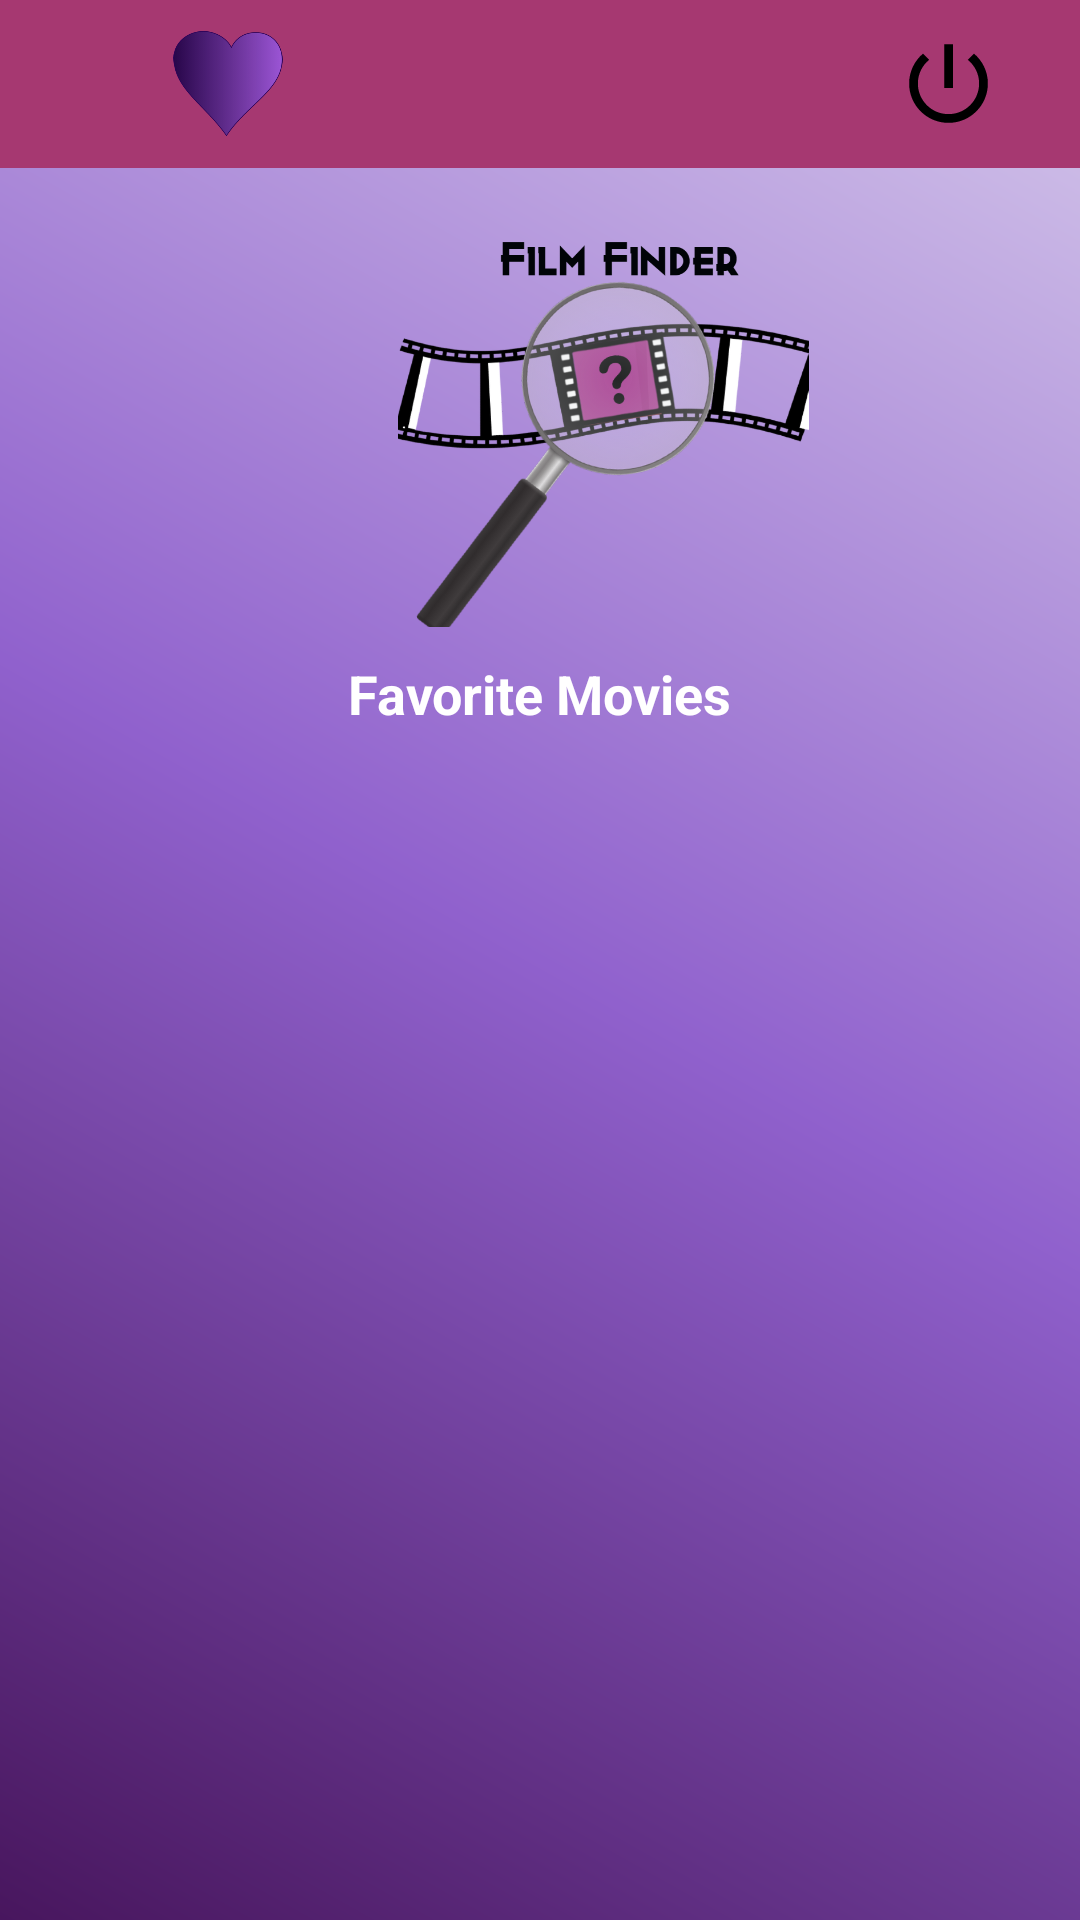

Icon bounding boxes for this 1080px×1920px phone screenshot, format (x1, y1, x2, y2):
heart: (173, 31, 283, 136)
